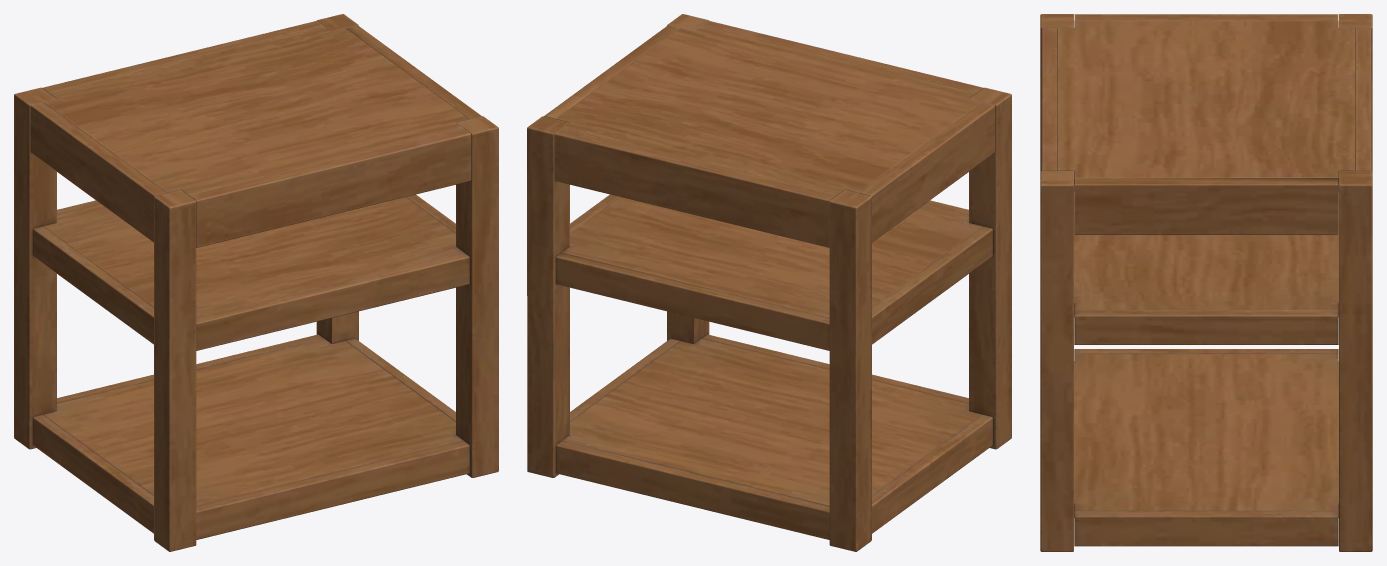
The model's file is side_oak.glb.
The picture shows the model from 3 angles, left to right: view 1: azimuth 30°, elevation 25°; view 2: azimuth 150°, elevation 25°; view 3: azimuth 270°, elevation 25°; orthographic projection. The views are drawn at different scales.
Visible parts, largest first — view 1: side_table_01; view 2: side_table_01; view 3: side_table_01.
Part boxes in pixels (x1,y1,x2,y2): side_table_01: [14, 14, 498, 551]; side_table_01: [527, 14, 1011, 551]; side_table_01: [1040, 14, 1372, 551].
Bounding box in the file's own units: 0.55 × 0.5507 × 0.45.
Materials: 1 (1 with a texture image).
